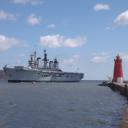Portanaves: (3, 44, 86, 85)
